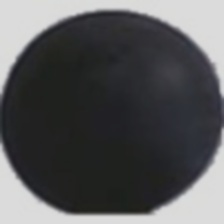grapes: (24, 18, 196, 194)
